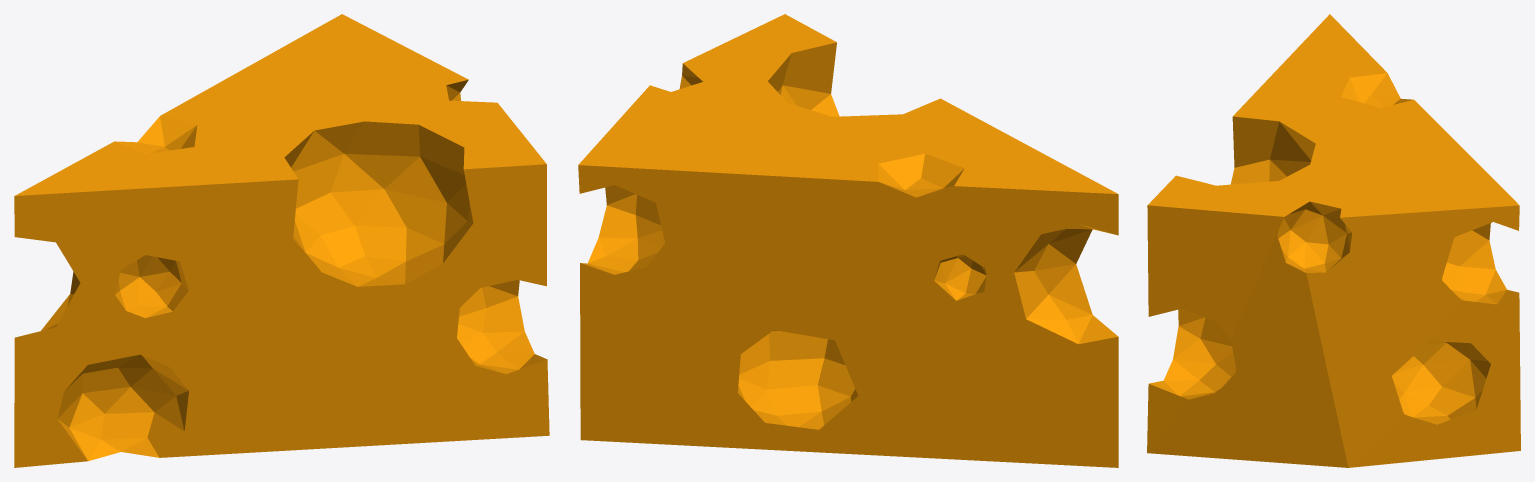
Rendered from Cheese.fbx.
3 renders of one model, left to right at view 1: azimuth 30°, elevation 25°; view 2: azimuth 150°, elevation 25°; view 3: azimuth 270°, elevation 25°, orthographic. The views are drawn at different scales.
Visible parts, largest first — view 1: Cheese; view 2: Cheese; view 3: Cheese.
Boxes of the visible parts, box(x1,y1,x2,y2) form: Cheese: box(14, 14, 549, 467); Cheese: box(578, 14, 1118, 467); Cheese: box(1147, 14, 1520, 467).
Bounding box in the file's own units: 101 × 55.98 × 76.72.
